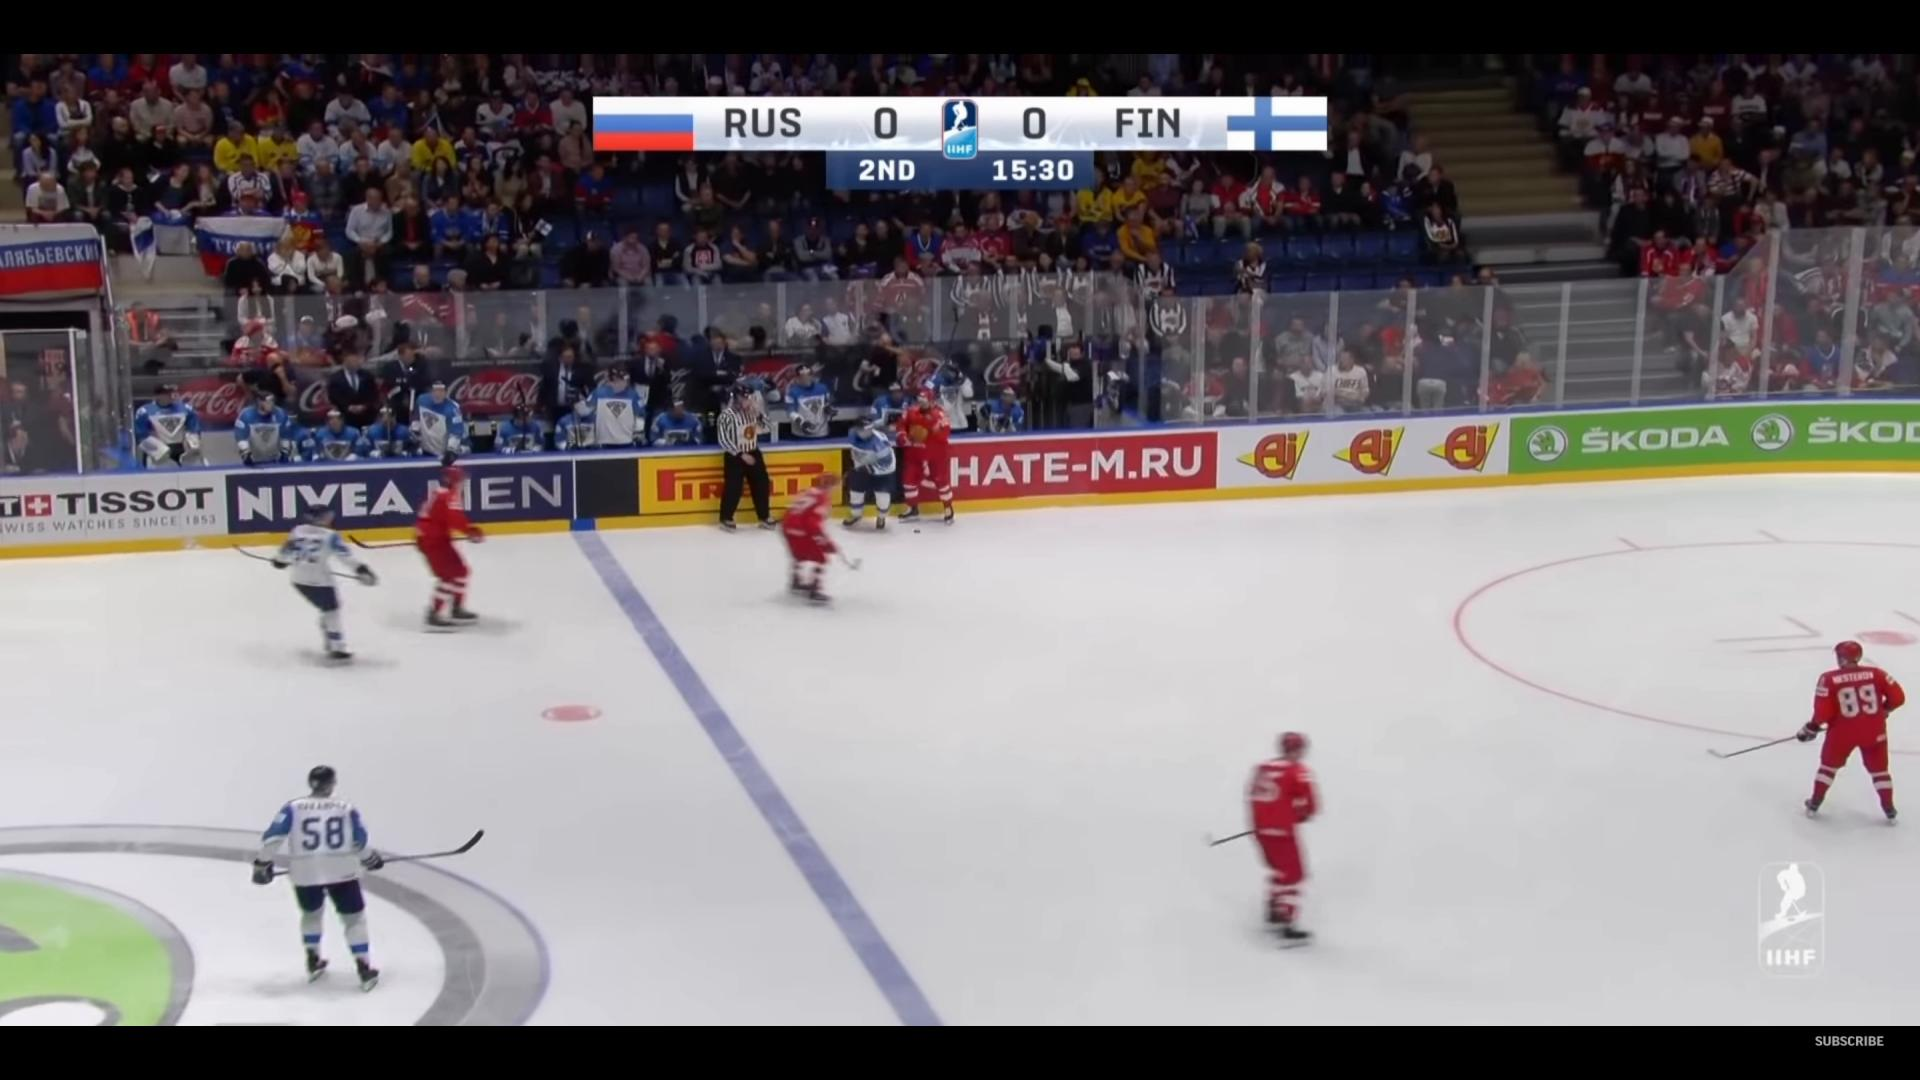puck: (912, 528, 920, 532)
